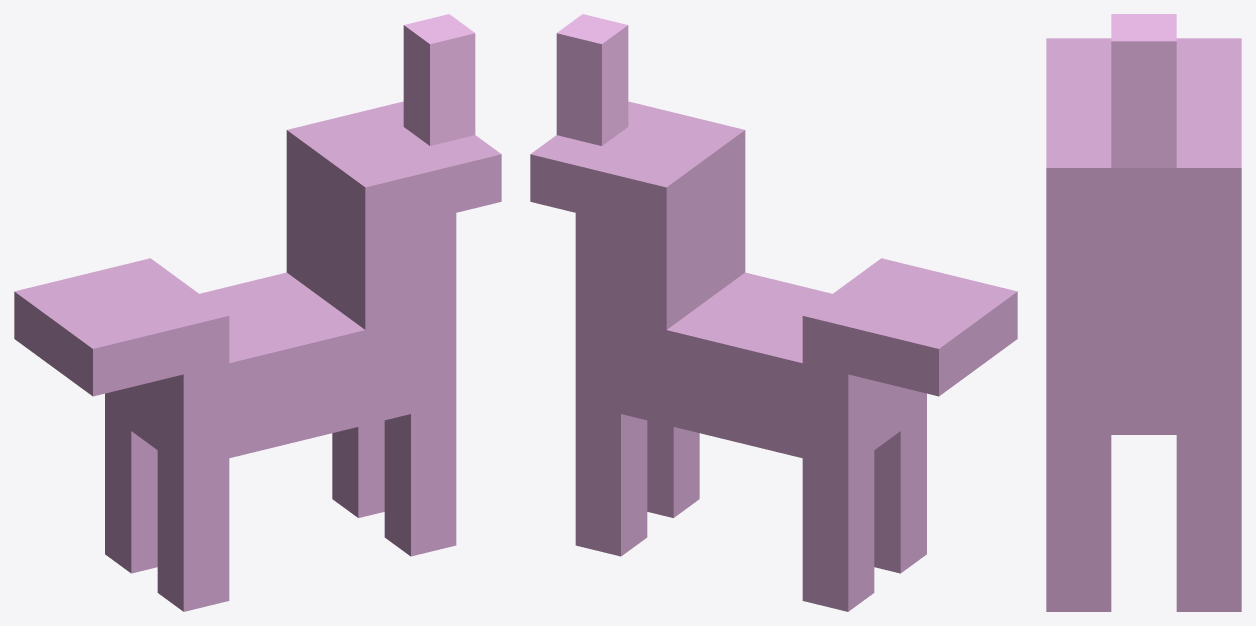
Rendered from Unicorn.fbx.
The picture shows the model from 3 angles, left to right: view 1: azimuth 30°, elevation 25°; view 2: azimuth 150°, elevation 25°; view 3: azimuth 270°, elevation 25°; orthographic projection. The views are drawn at different scales.
Parts seen in each view (by area): view 1: pCube1; view 2: pCube1; view 3: pCube1.
Boxes of the visible parts, x1,y1,x2,y2 form: pCube1: (14, 14, 501, 611); pCube1: (530, 14, 1017, 611); pCube1: (1046, 14, 1241, 611).
Bounding box in the file's own units: 9 × 10.14 × 3.
